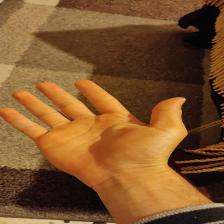five: (0, 80, 188, 172)
